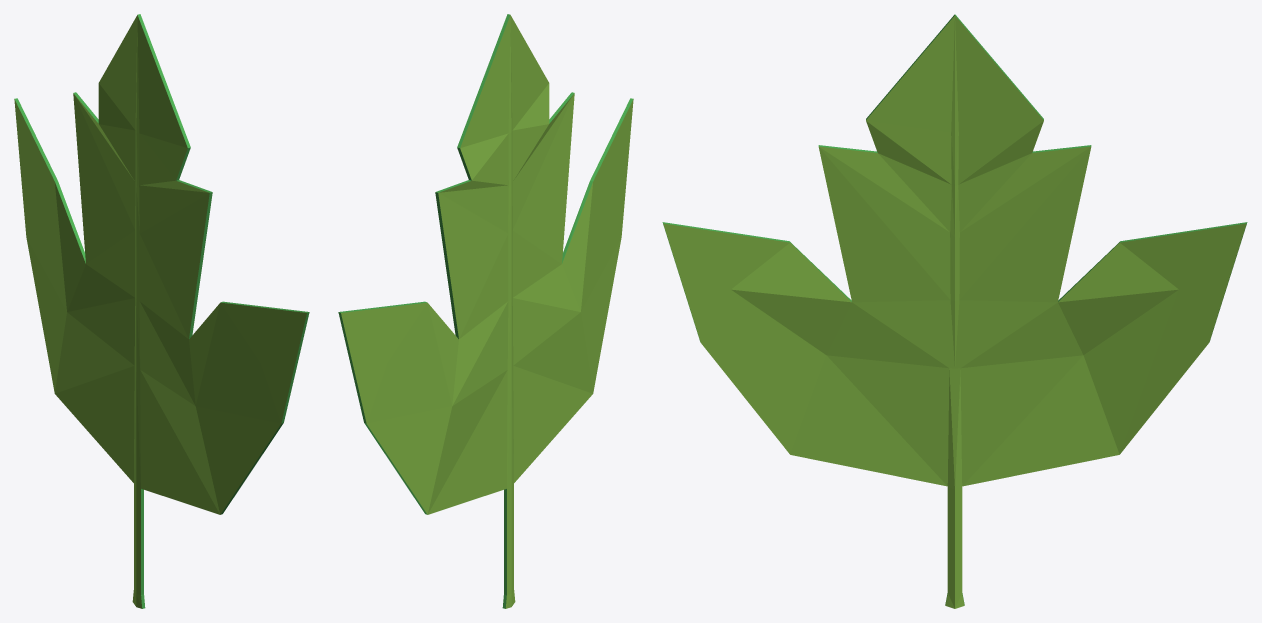
The model's file is leaf.glb.
3 views of the same model, side by side, from view 1: azimuth 30°, elevation 25°; view 2: azimuth 150°, elevation 25°; view 3: azimuth 270°, elevation 25° (orthographic).
Parts seen in each view (by area): view 1: leaf_Plane.007; view 2: leaf_Plane.007; view 3: leaf_Plane.007.
Part boxes in pixels (x1,y1,x2,y2): leaf_Plane.007: (14, 14, 309, 608); leaf_Plane.007: (338, 14, 633, 608); leaf_Plane.007: (662, 14, 1247, 608).
Bounding box in the file's own units: 0.6235 × 10.94 × 9.8.
